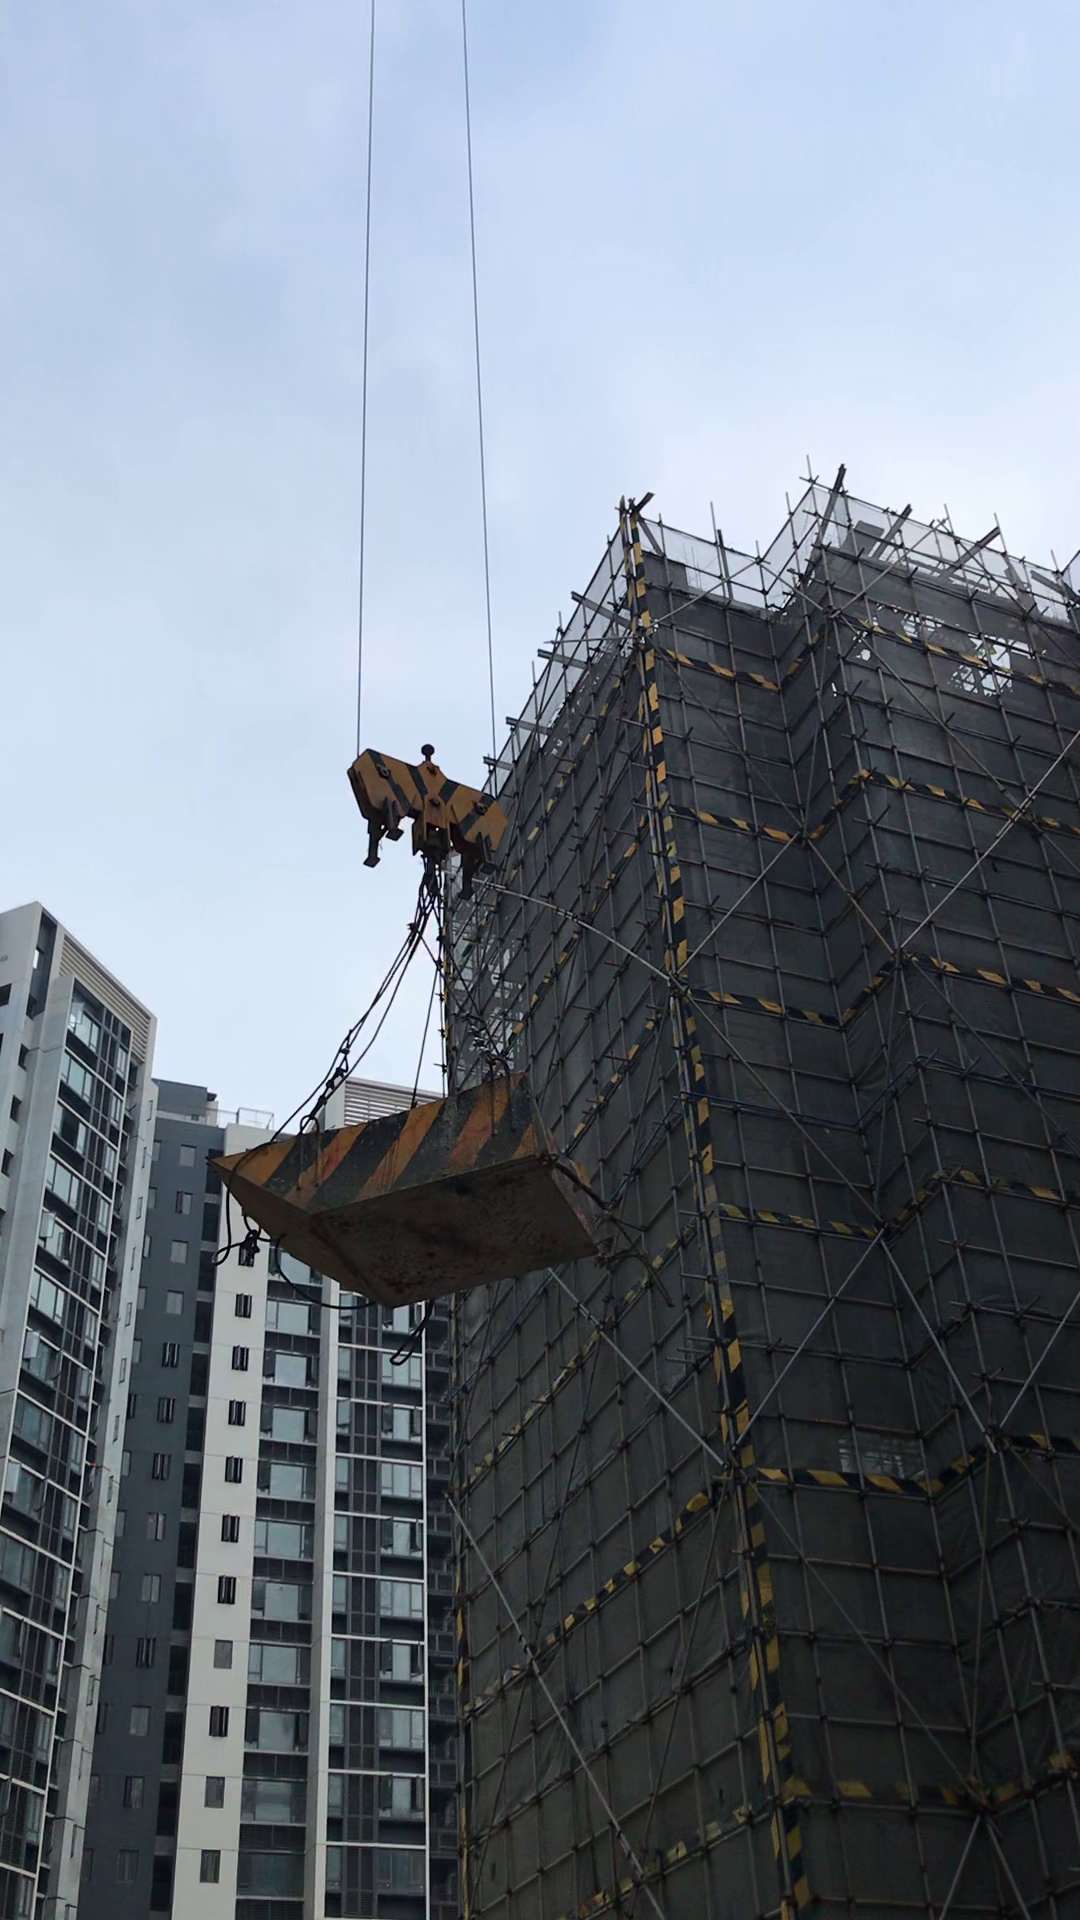hook: (339, 736, 506, 887)
